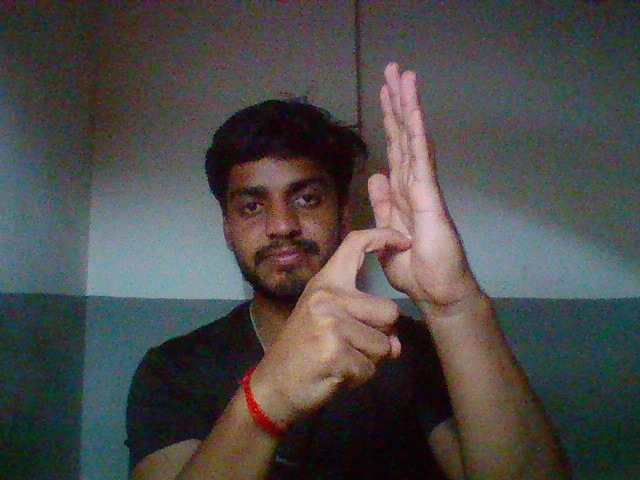H: (281, 54, 473, 363)
